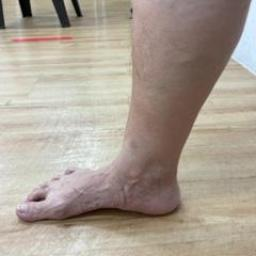Medial View -Right Foot-: (6, 117, 205, 237)
